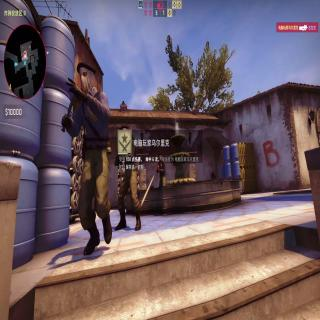T-Head: (78, 62, 95, 98)
